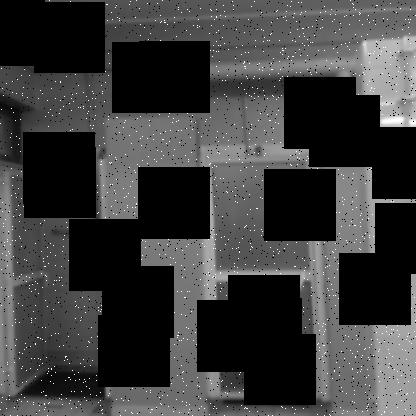Porte: (202, 149, 331, 402)
